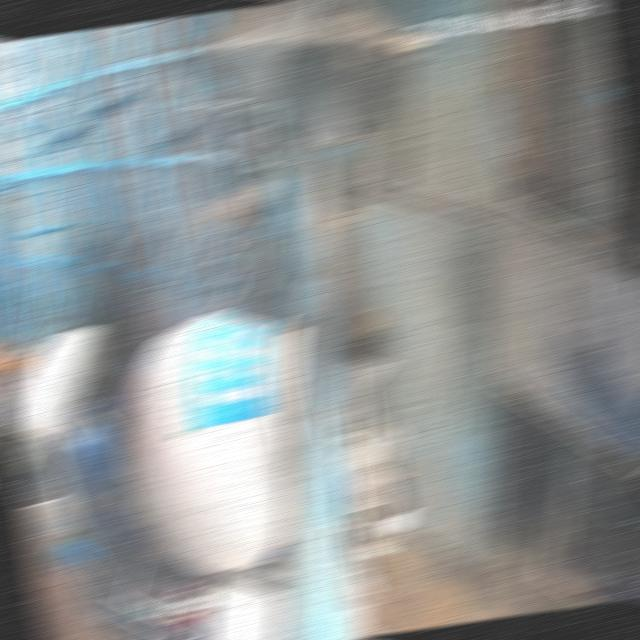cement_mixer_truck: (0, 288, 435, 639)
swing_chute: (265, 116, 396, 354)
